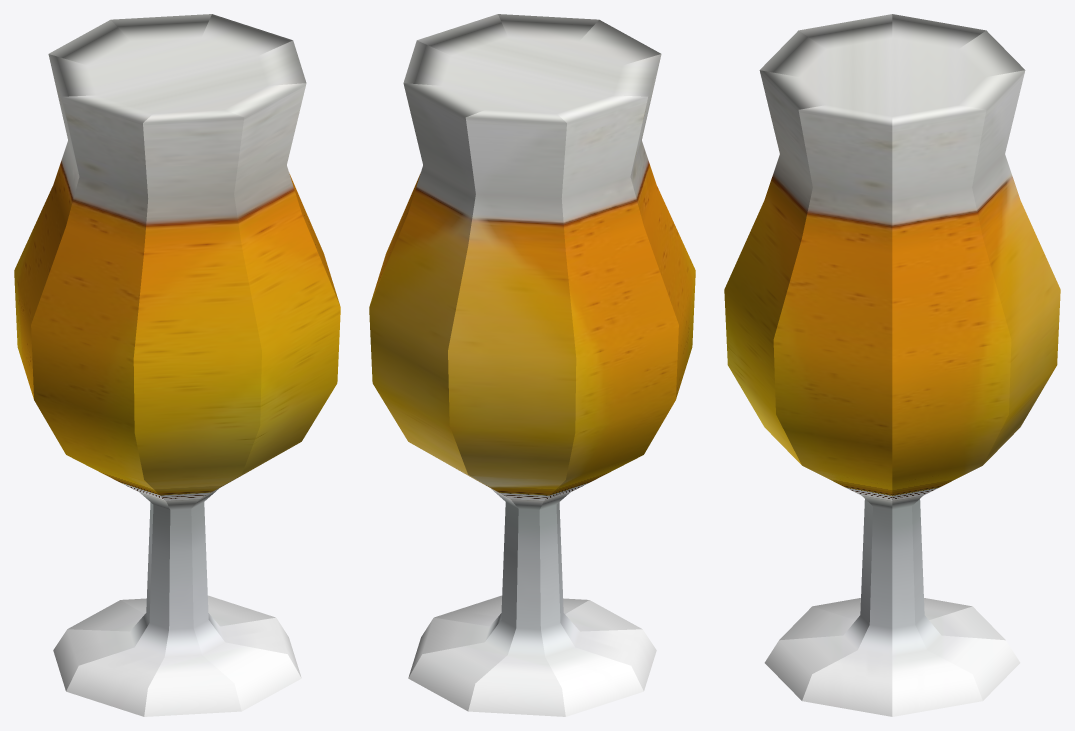
File: beer5m.fbx
3 renders of one model, left to right at view 1: azimuth 30°, elevation 25°; view 2: azimuth 150°, elevation 25°; view 3: azimuth 270°, elevation 25°, orthographic.
Parts seen in each view (by area): view 1: pCylinder2; view 2: pCylinder2; view 3: pCylinder2.
Part boxes in pixels (bbox=[...]): pCylinder2: bbox=[14, 14, 340, 716]; pCylinder2: bbox=[369, 14, 695, 716]; pCylinder2: bbox=[724, 14, 1060, 716].
Bounding box in the file's own units: 1.94 × 3.77 × 1.94.
Materials: 1 (1 with a texture image).
